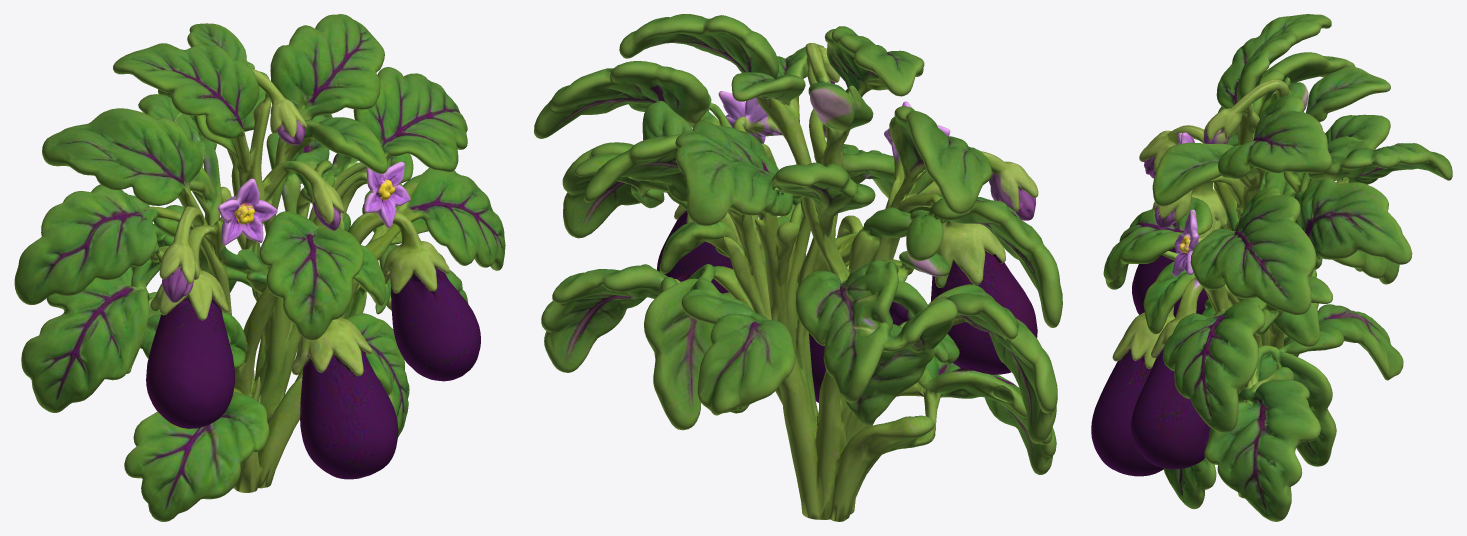
The model's file is eggplant-mature.glb.
3 renders of one model, left to right at view 1: azimuth 30°, elevation 25°; view 2: azimuth 150°, elevation 25°; view 3: azimuth 270°, elevation 25°, orthographic. The views are drawn at different scales.
Bounding box in the file's own units: 1.9 × 1.72 × 1.28.
Materials: 1 (1 with a texture image).
